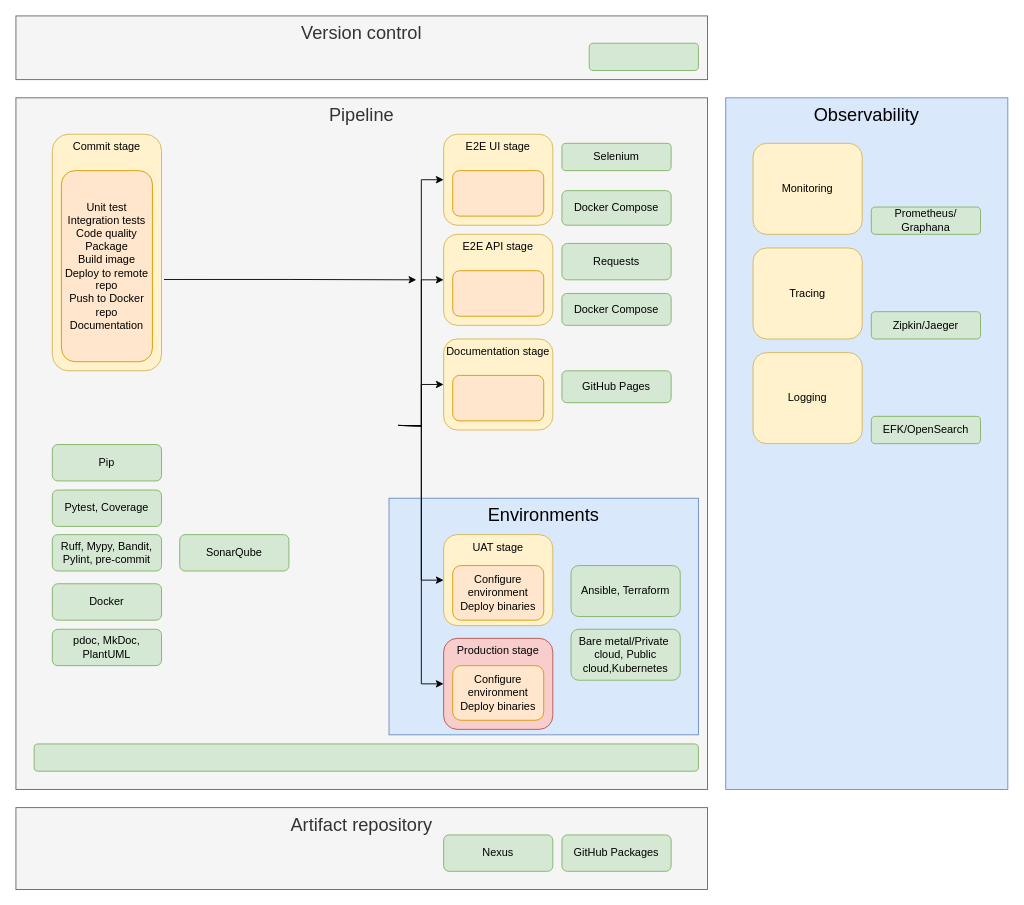
Some shapes in this 1024 by 905 pixel diagram are drawn without their labels. The shapes that lost their labels are listed below. From the top down, each one's centre as x and y in pixels, then its label:
the point at 643,56: Git/GitHub
the point at 498,193: E2E UI tests
the point at 498,293: E2E API tests
the point at 498,397: Deploy documentation
the point at 365,757: GitHub Actions
